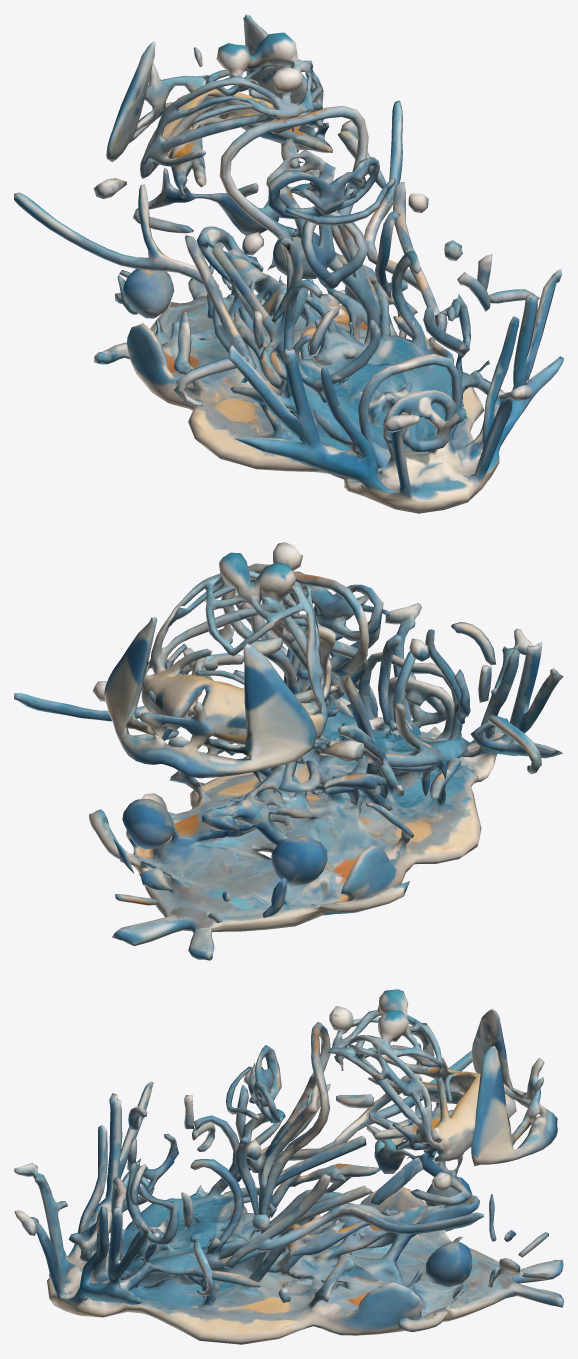
File: Ocean_Breeze_0613153214_texture.fbx
3 renders of one model, top to bottom at view 1: azimuth 30°, elevation 25°; view 2: azimuth 150°, elevation 25°; view 3: azimuth 270°, elevation 25°, orthographic. The views are drawn at different scales.
Visible parts, largest first — view 1: Mesh1_Mesh1.077; view 2: Mesh1_Mesh1.077; view 3: Mesh1_Mesh1.077.
Boxes of the visible parts, <box> form: Mesh1_Mesh1.077: <box>14,14,563,513</box>; Mesh1_Mesh1.077: <box>14,542,563,960</box>; Mesh1_Mesh1.077: <box>14,989,563,1344</box>.
Size of the model in its own units: 143 by 117 by 197.
Materials: 1 (1 with a texture image).
